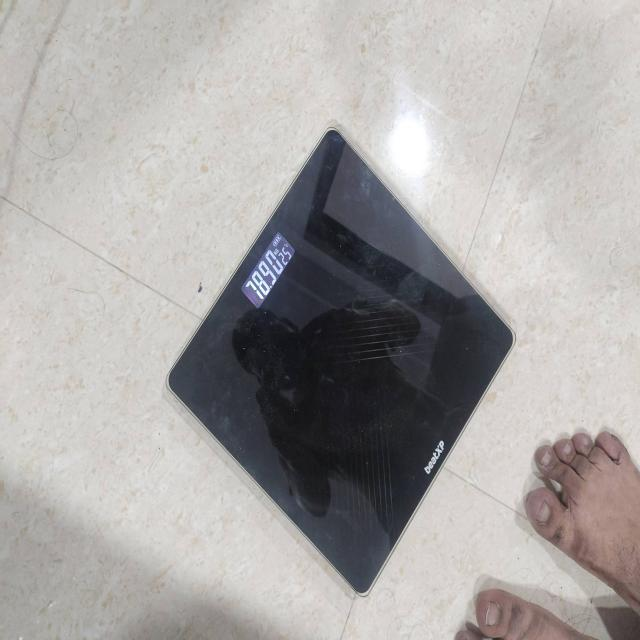ws: (213, 130, 512, 591)
